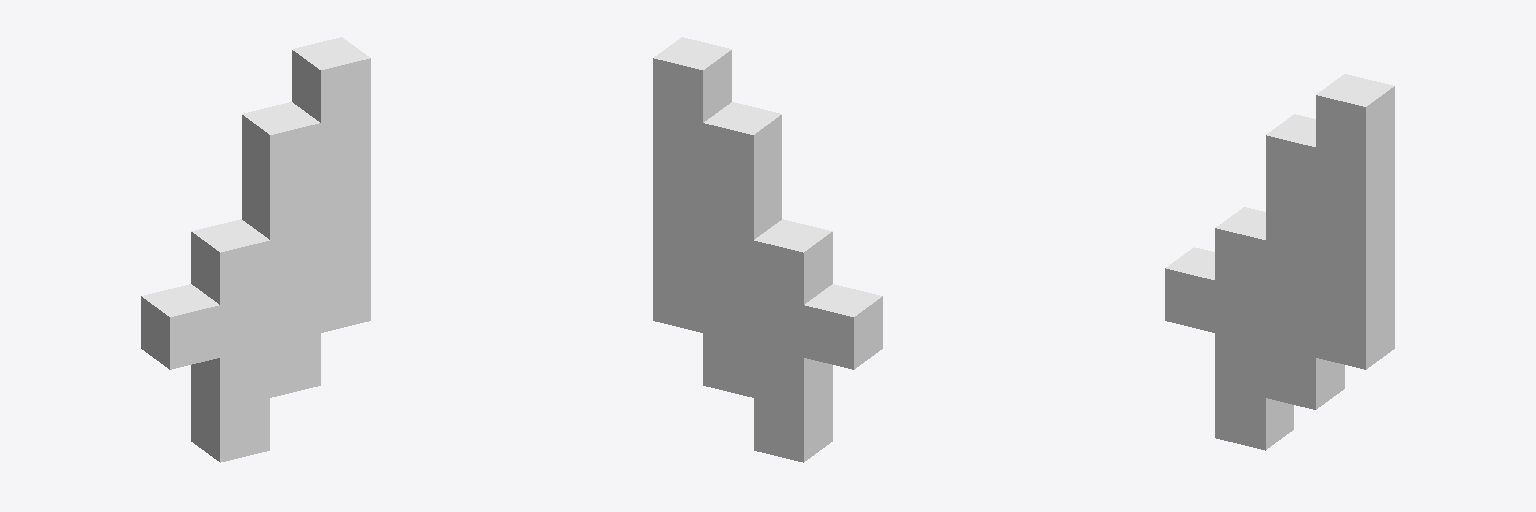
Rendered from YellowHouseParts-41.obj.
3 renders of one model, left to right at view 1: azimuth 30°, elevation 25°; view 2: azimuth 150°, elevation 25°; view 3: azimuth 330°, elevation 25°, orthographic.
Visible parts, largest first — view 1: object 1; view 2: object 1; view 3: object 1.
Boxes of the visible parts, x1,y1,x2,y2 form: object 1: [141, 37, 370, 462]; object 1: [653, 37, 882, 462]; object 1: [1165, 74, 1394, 450].
Size of the model in its own units: 0.4 by 0.7 by 0.1.